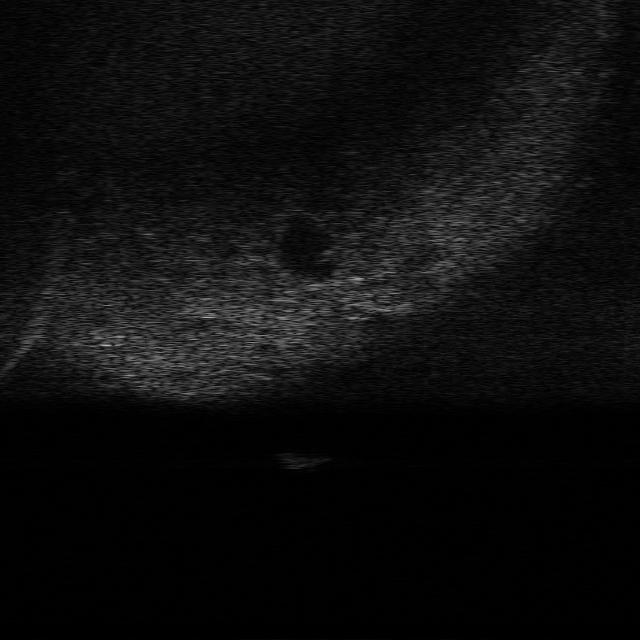cube: (274, 450, 334, 469)
